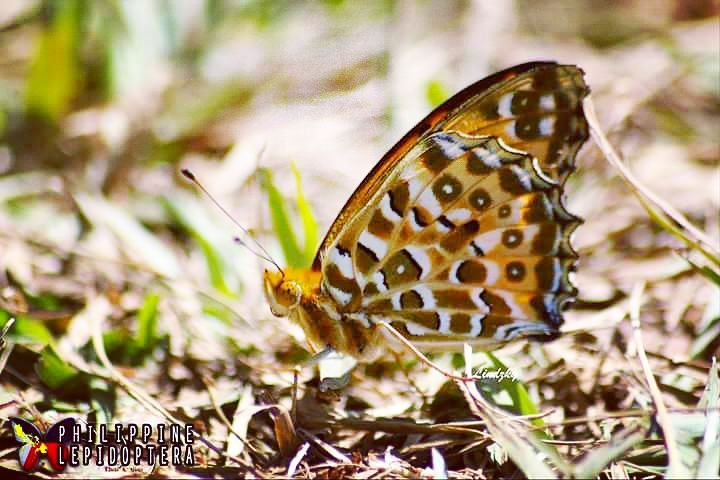Argyreus hyperbius: (181, 55, 589, 408)
butterfly: (183, 57, 591, 410)
